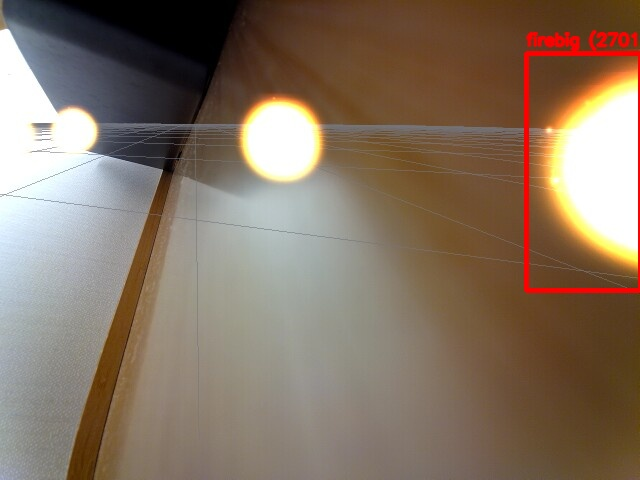firebig: (526, 53, 640, 290)
